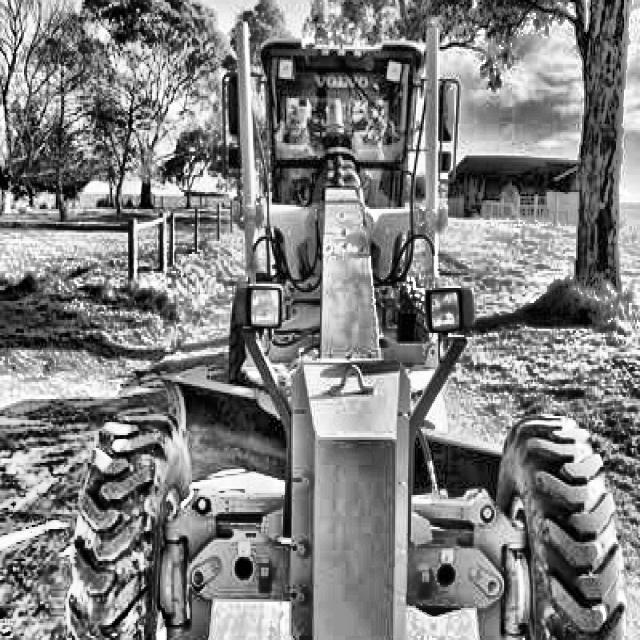buldozerpayloadergrader: (61, 0, 638, 640)
